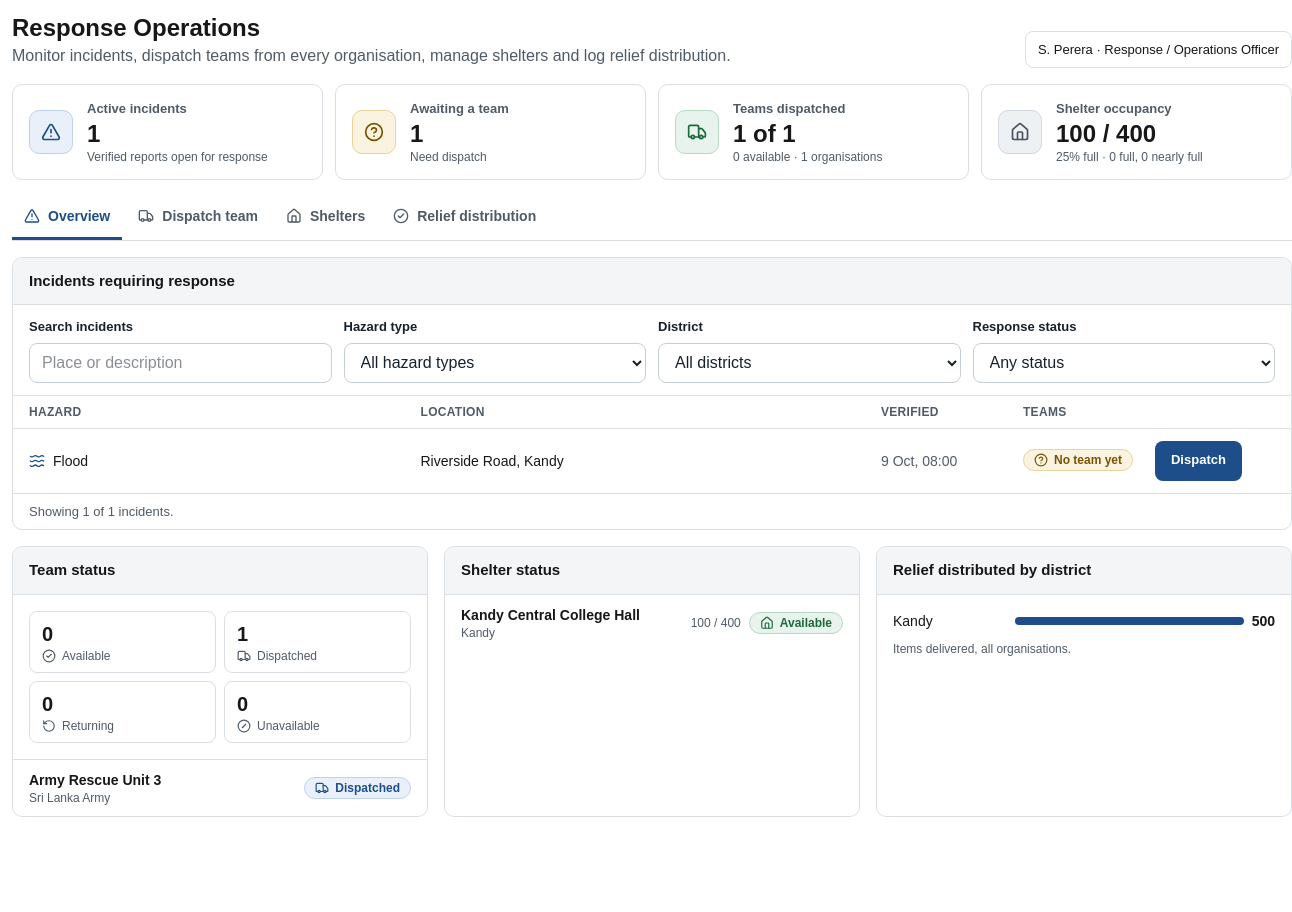
Dispatch Rescue Team › tells the officer when a status change fails
The image size is (1292, 912).
expect the text "Active incidents" is shown: met, box left=87, top=101, right=187, bottom=116
Step 1. Click the tab "Dispatch team" → {"x": 198, "y": 218}, box left=126, top=196, right=270, bottom=240
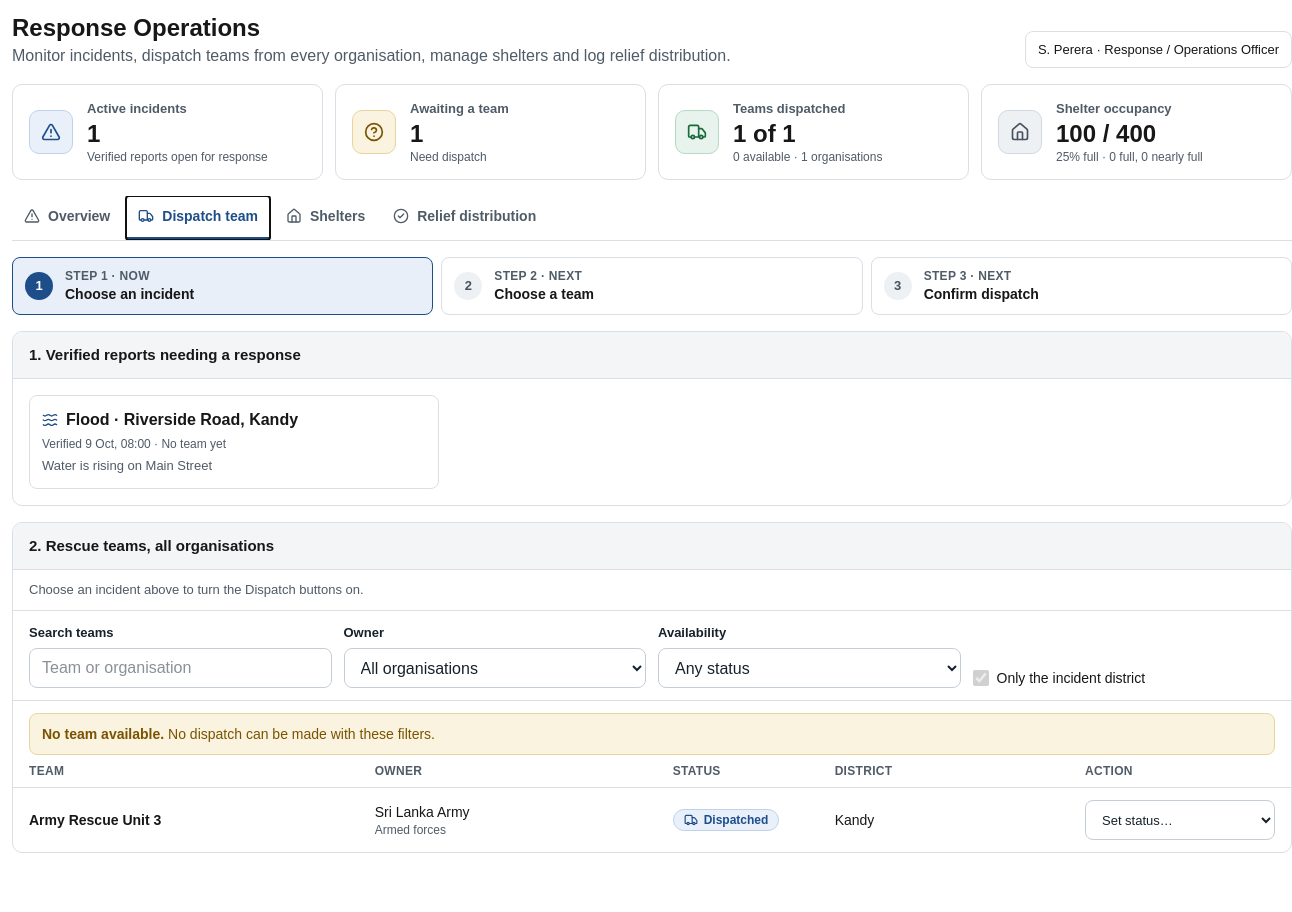
Step 2. Select "Returning" in the dropdown named "change the status of" → {"x": 1180, "y": 820}, box left=1085, top=800, right=1275, bottom=840
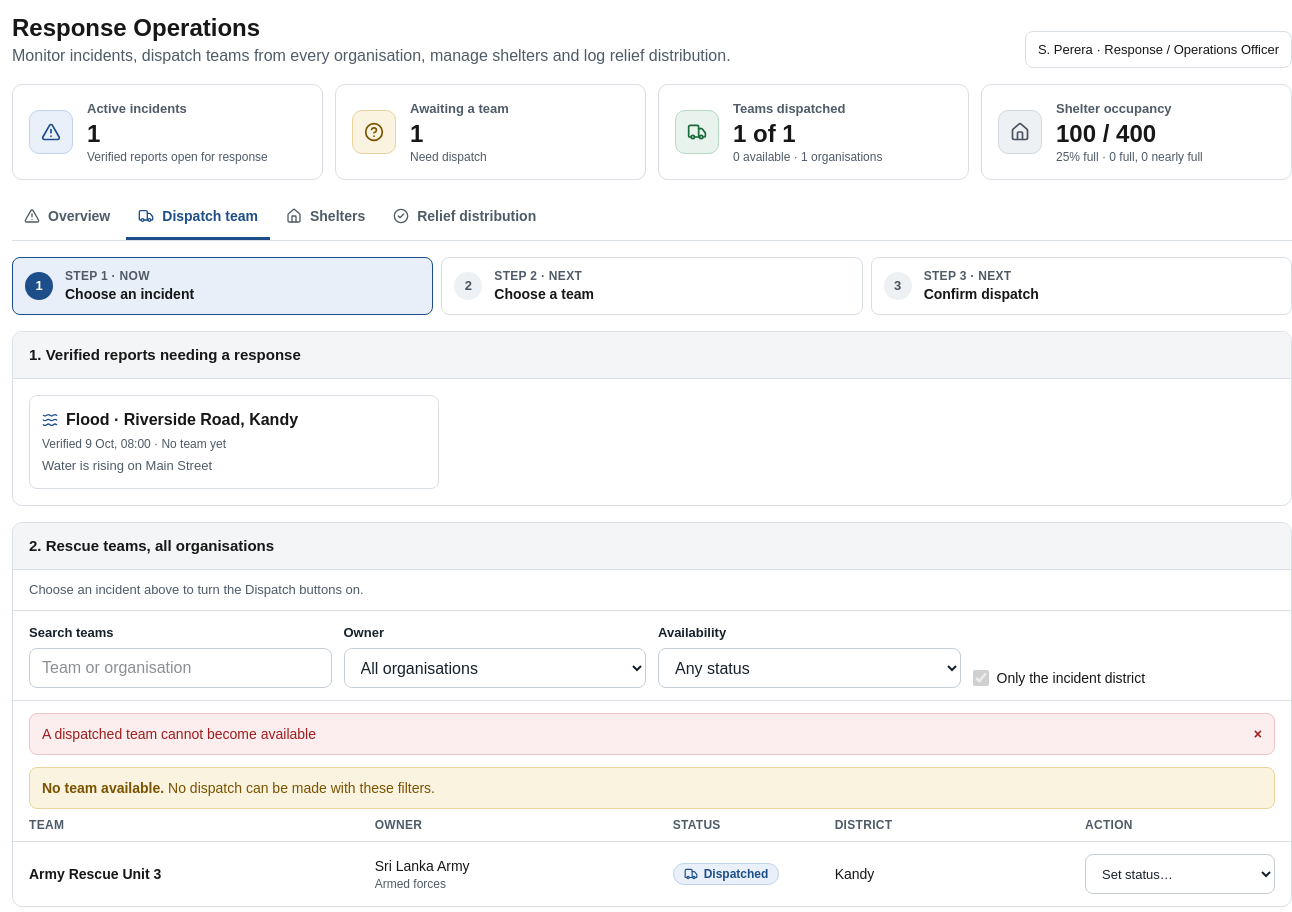
expect the text "A dispatched team cannot become available" is shown: met, box left=42, top=726, right=316, bottom=742
